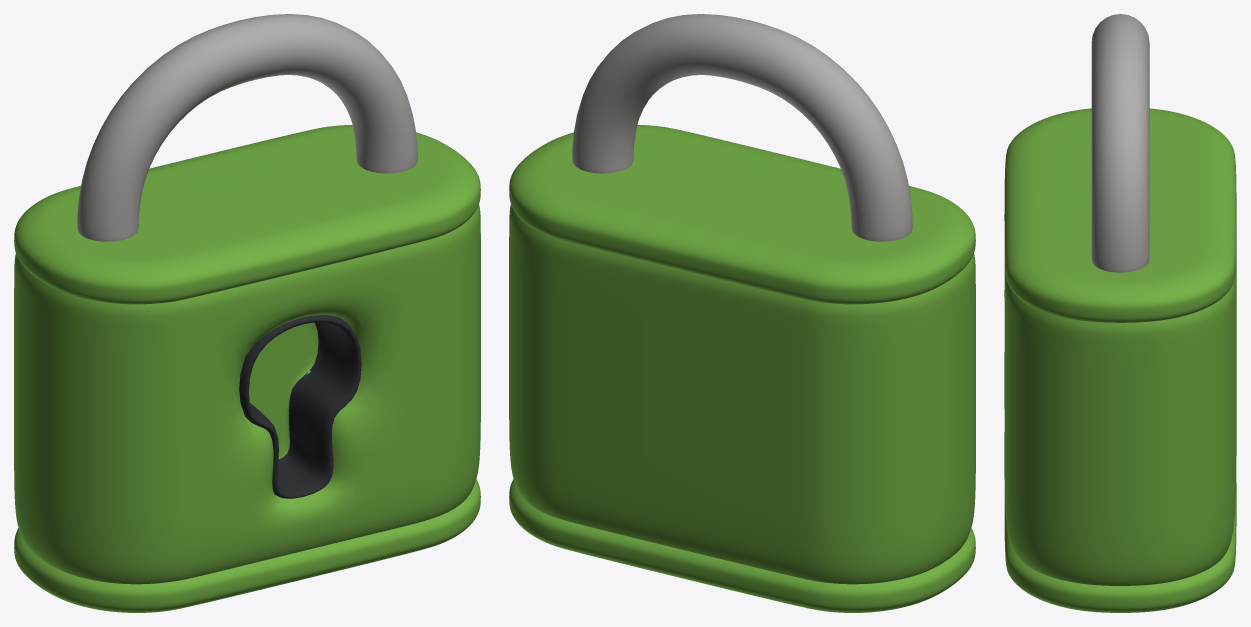
The model's file is password-protection-animated-3d-icon-284518464261.glb.
The picture shows the model from 3 angles, left to right: view 1: azimuth 30°, elevation 25°; view 2: azimuth 150°, elevation 25°; view 3: azimuth 270°, elevation 25°; orthographic projection. The views are drawn at different scales.
Visible parts, largest first — view 1: Cube.001, Plane.003, Cube.002; view 2: Cube.001, Plane.003; view 3: Cube.001, Plane.003.
Part boxes in pixels (x1,y1,x2,y2): Cube.001: (14, 125, 480, 612); Plane.003: (77, 14, 417, 241); Cube.002: (239, 315, 361, 498); Cube.001: (509, 125, 975, 612); Plane.003: (572, 14, 912, 241); Cube.001: (1004, 108, 1236, 612); Plane.003: (1091, 14, 1149, 272).
Size of what is drawn, in the model's own units: 1.59 by 1.85 by 0.7967.
